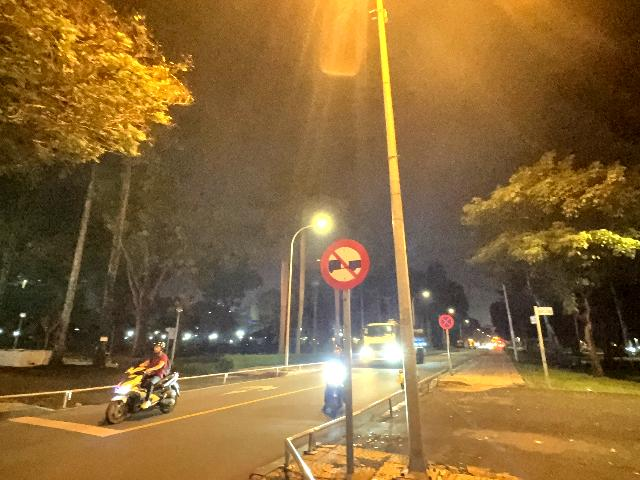cam-xe-somi-romooc: (320, 239, 371, 290)
